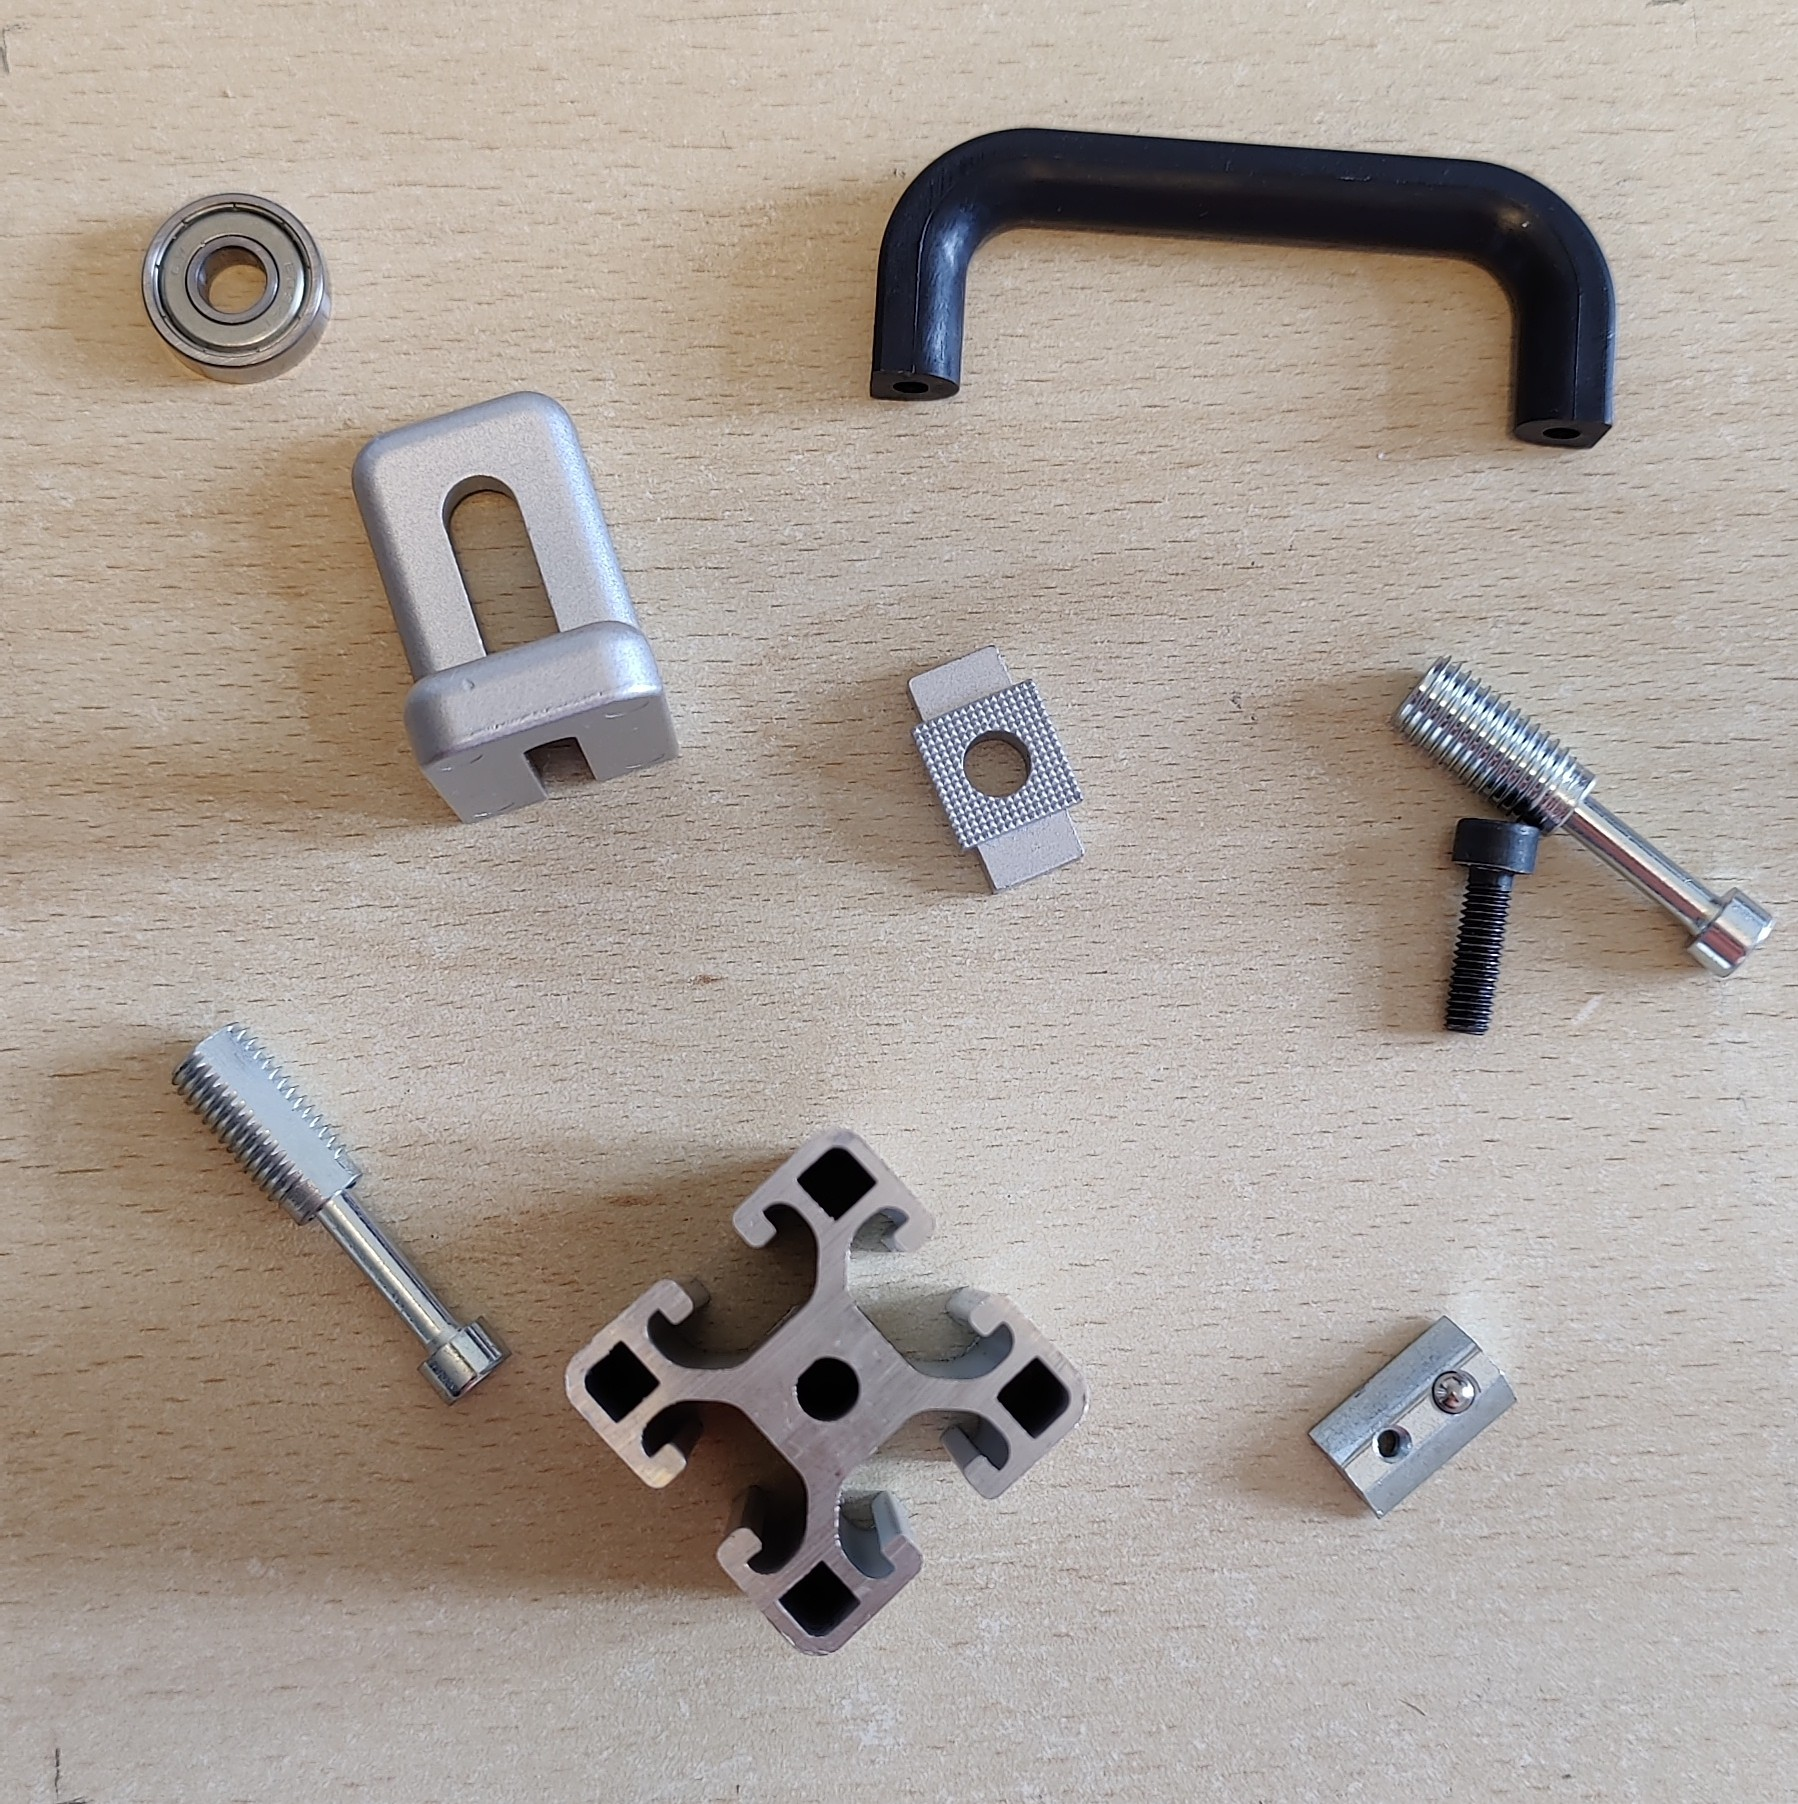Aluminium Extension: (563, 1124, 1092, 1659)
Ball Bearing: (138, 188, 334, 387)
Multiwinkel: (347, 388, 682, 826)
Pull Handle: (864, 125, 1622, 451)
Shoulder Socket Head Cap Screw: (166, 1016, 514, 1407), (1390, 652, 1777, 981)
Socket Head Cap Screw: (1441, 815, 1543, 1040)
T Nut Square: (902, 642, 1088, 897)
T Spring Nut: (1304, 1310, 1521, 1523)
